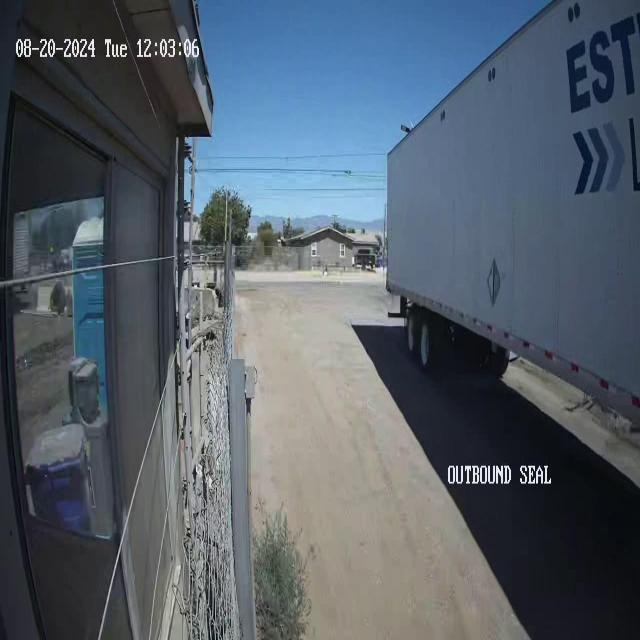TRUCK_IN: (384, 1, 640, 427)
